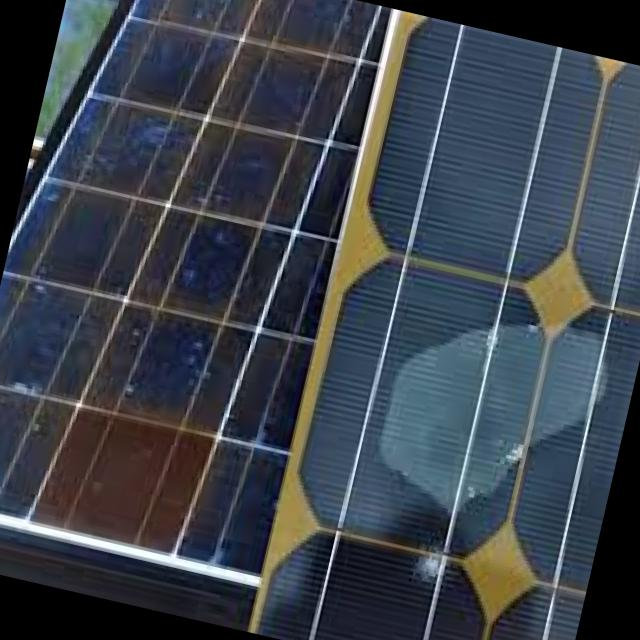faulty: (0, 0, 393, 605), (342, 268, 620, 554)
